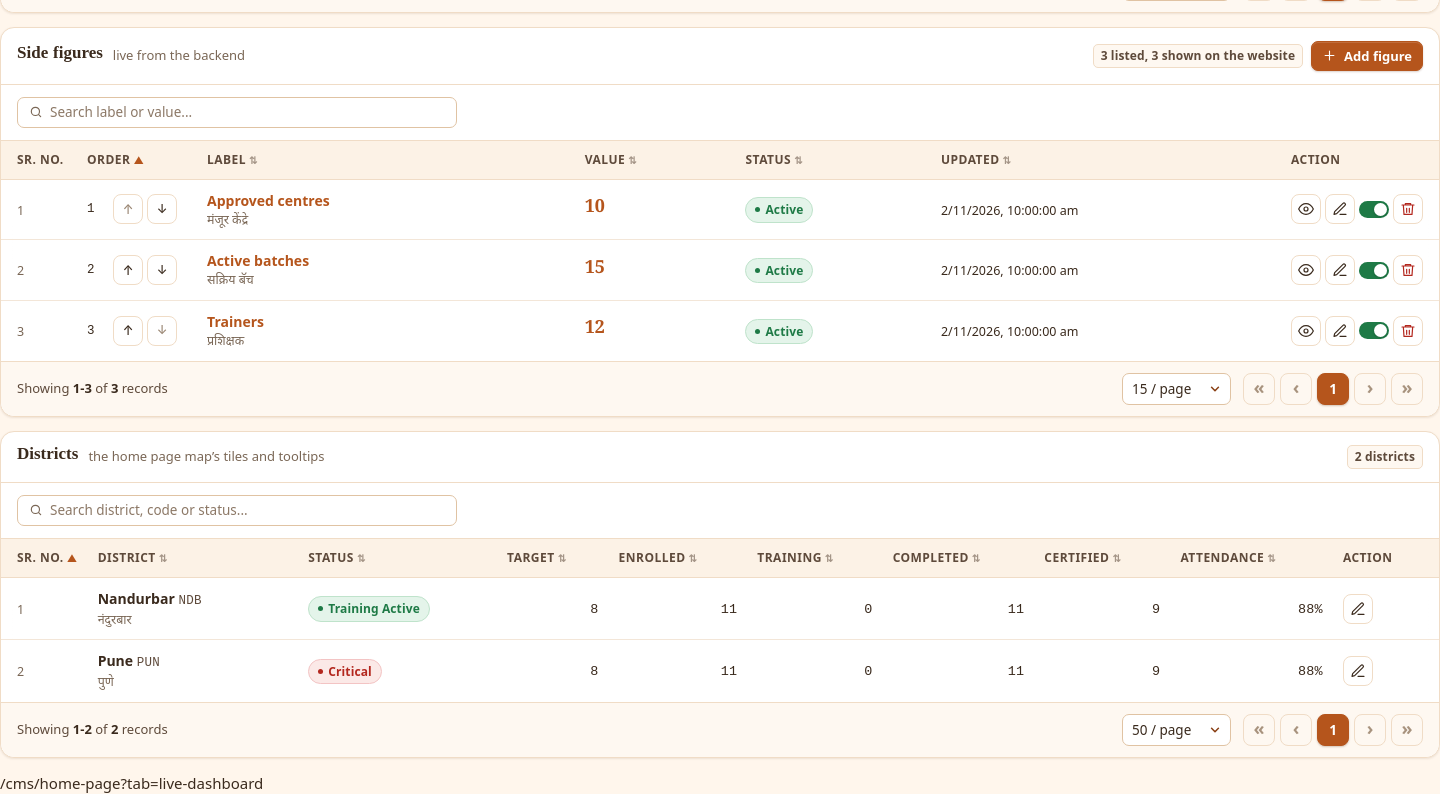
a district’s Edit dialog › refuses an attendance over 100 and a negative or fractional figure before sending anything
(page scrolled)
Check: the text "Pune" is shown, box [98,651,133,670]
Click the button named "Edit Pune": (1358,671) [1343,656,1373,686]
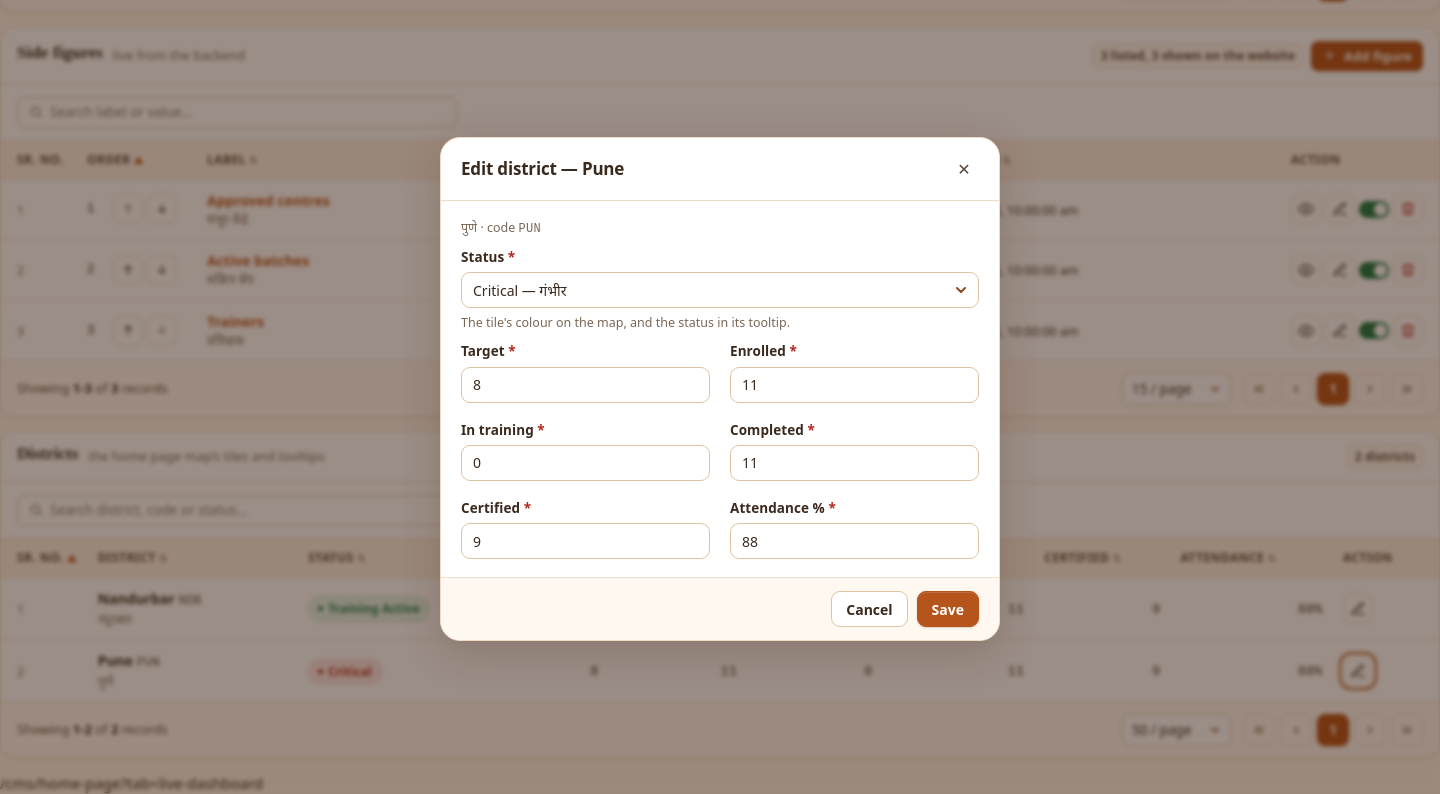
Replace the text in the number field labelled "Attendance % *" with "101": (854,541) [730,523,979,559]
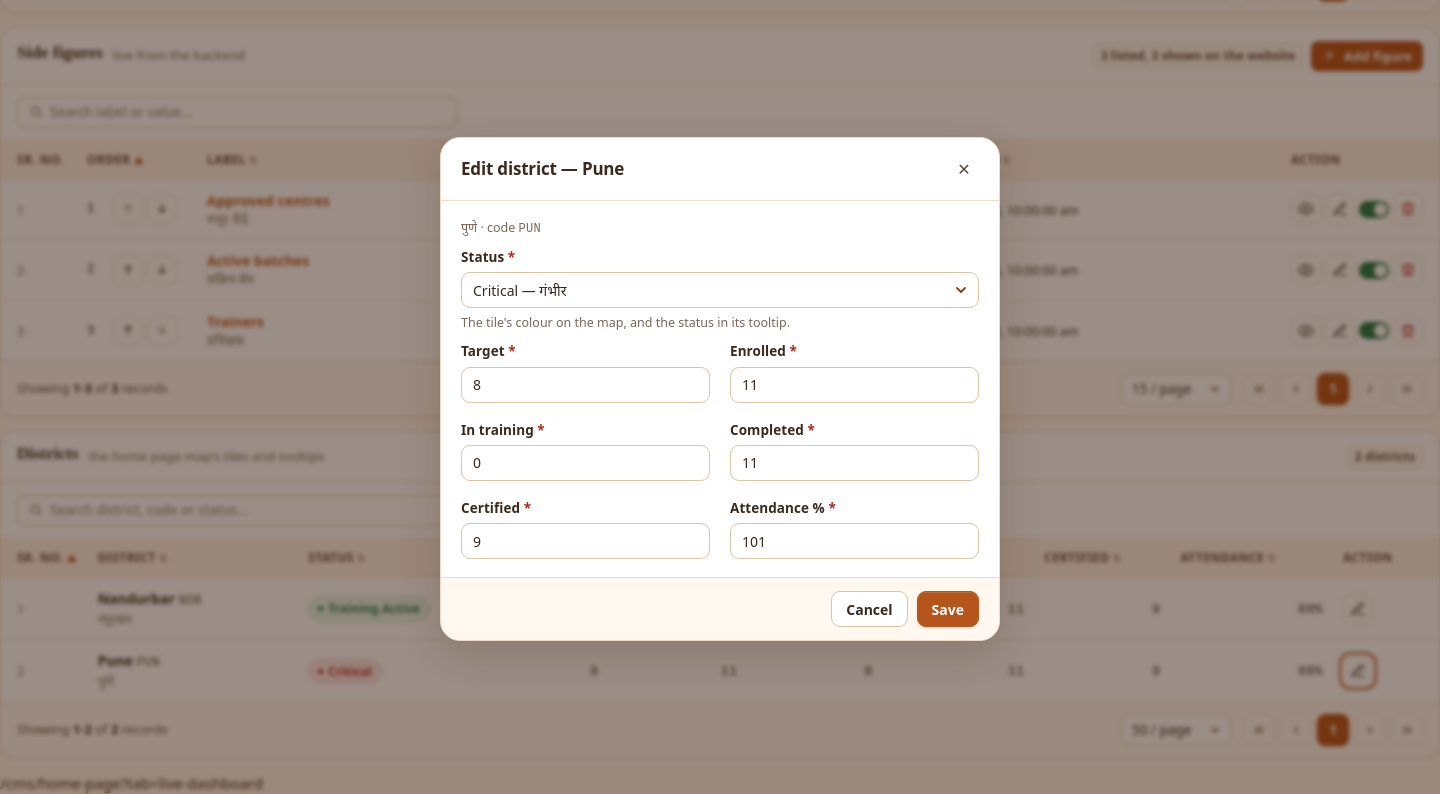
Replace the text in the number field labelled "Target *" with "-1": (586,385) [461,367,710,403]
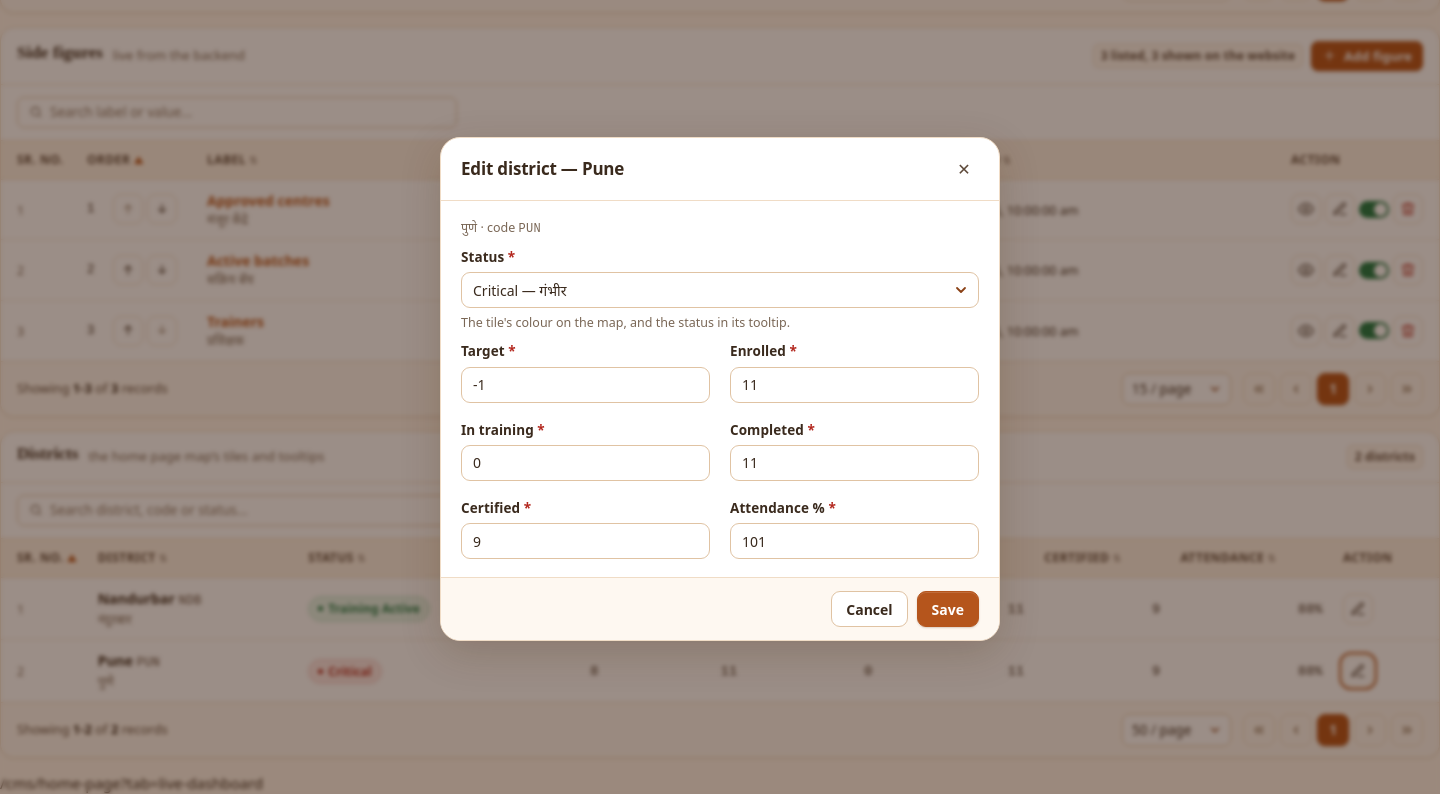
Replace the text in the number field labelled "Certified *" with "2.5": (586,541) [461,523,710,559]
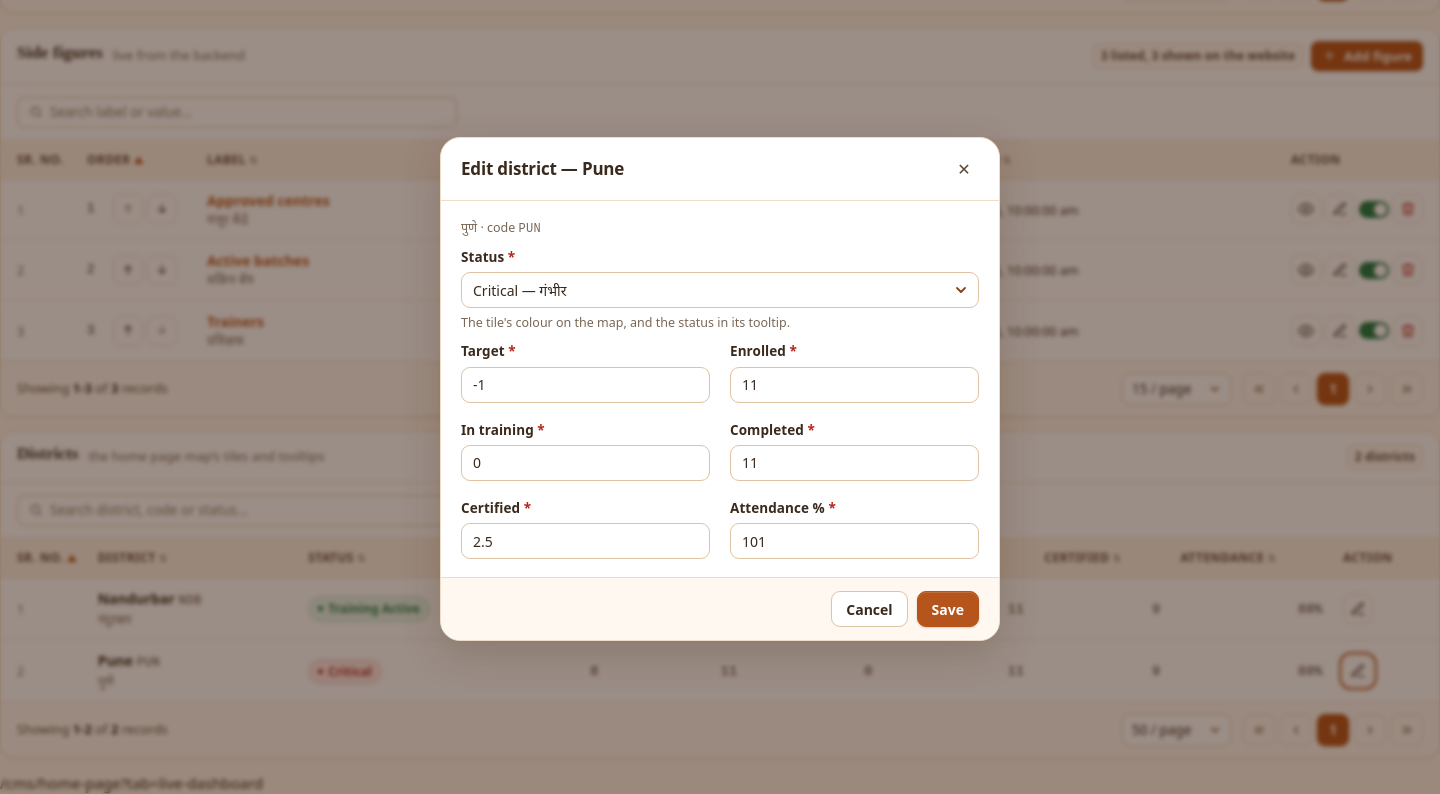
Click the button "Save": (948,609) [917,591,979,627]
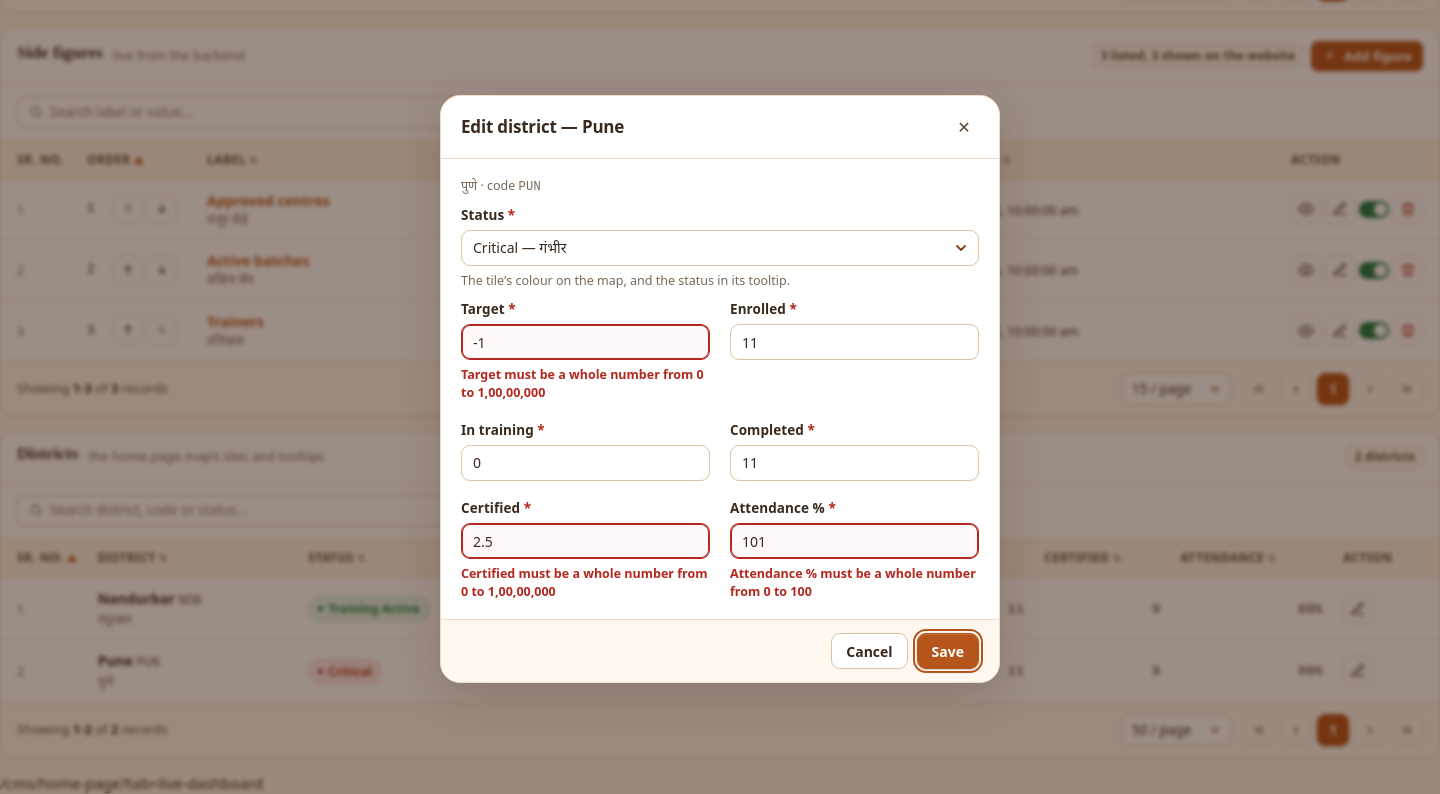
Check: the text "Attendance % must be a whole number from 0 to 100" is shown, box [730,565,979,601]
Check: the text "Target must be a whole number from 0 to 1,00,00,000" is shown, box [461,366,710,403]
Check: the text "Certified must be a whole number from 0 to 1,00,00,000" is shown, box [461,565,710,601]
